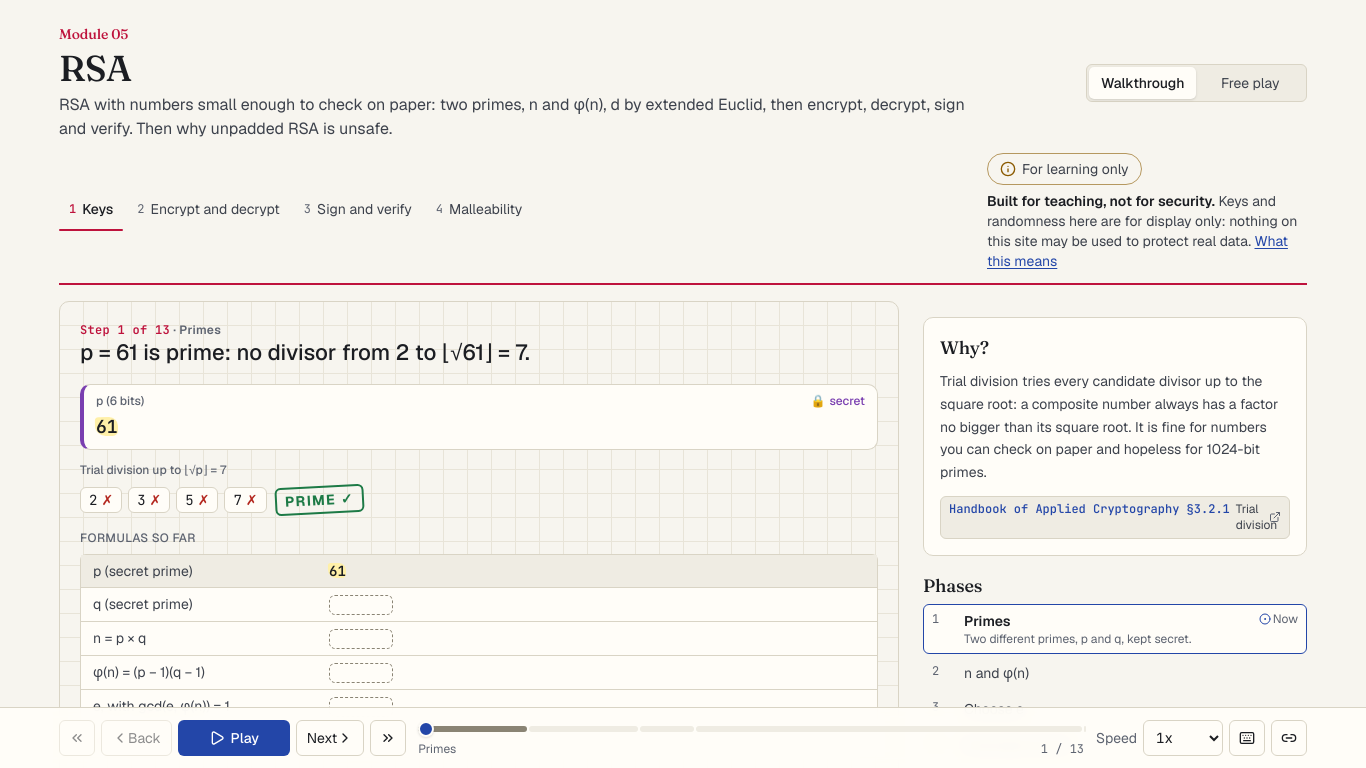
RsaModule › sends the hash to the private key and back, and verification lights green
Click the button "3 Sign and verify" at (358, 209), box [294,193,422,225]
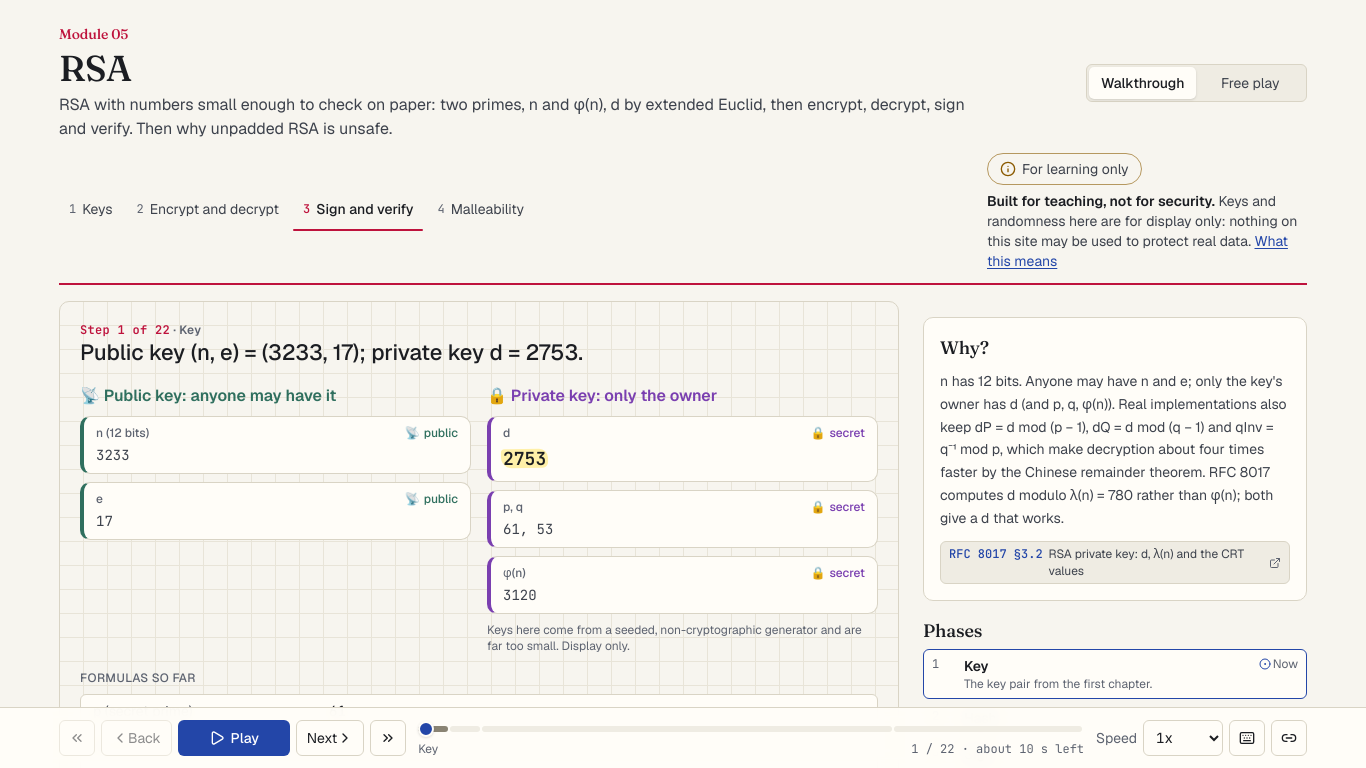
Press ArrowRight
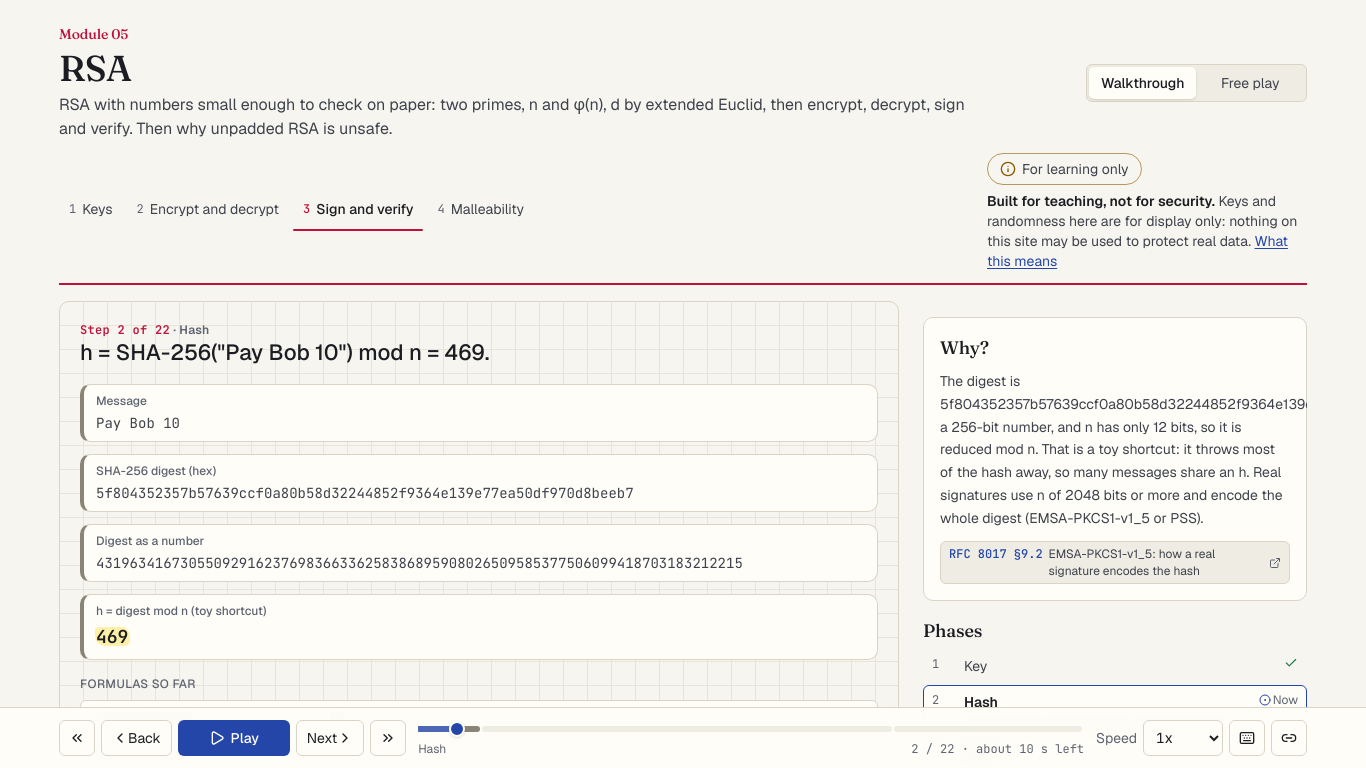
Press ArrowRight
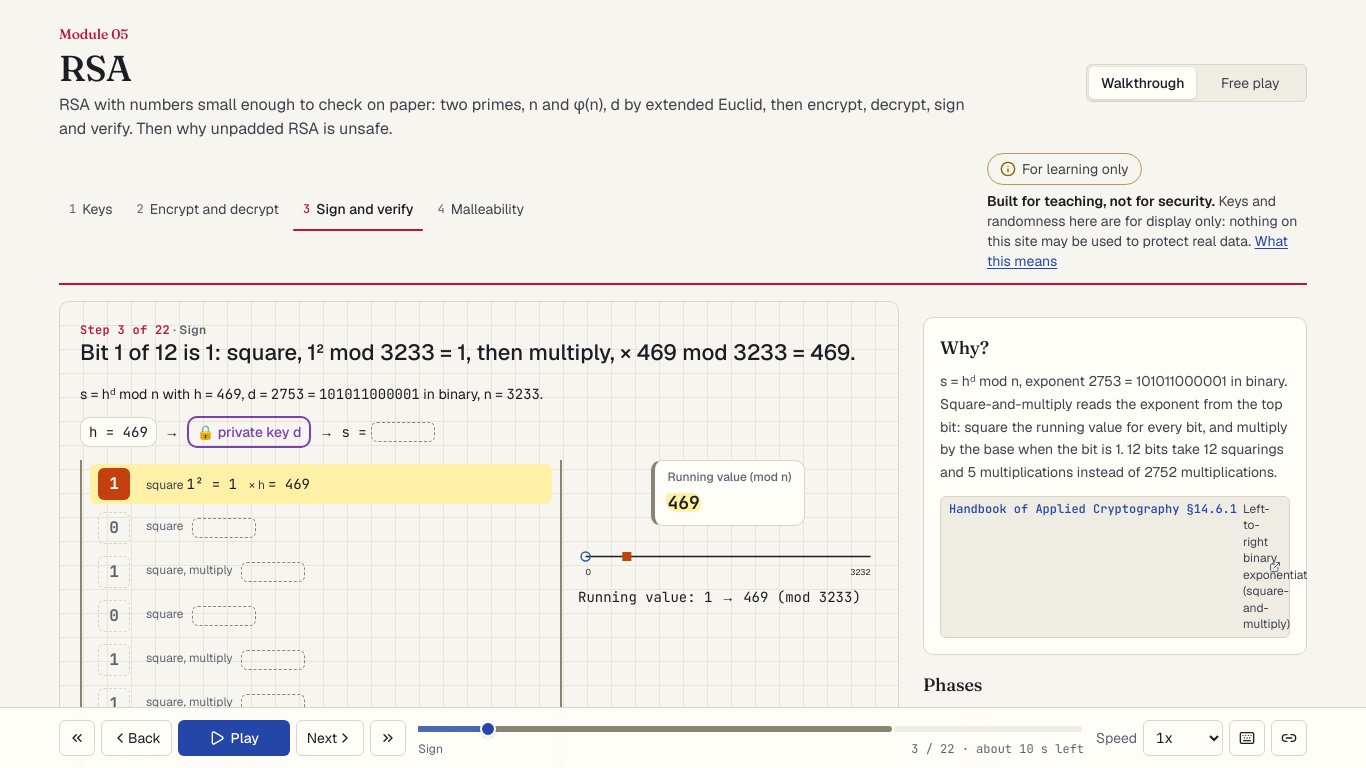
Now the element with test id "rsa-trip-sign" shows "private key d", box [218,423,302,441]
Press End
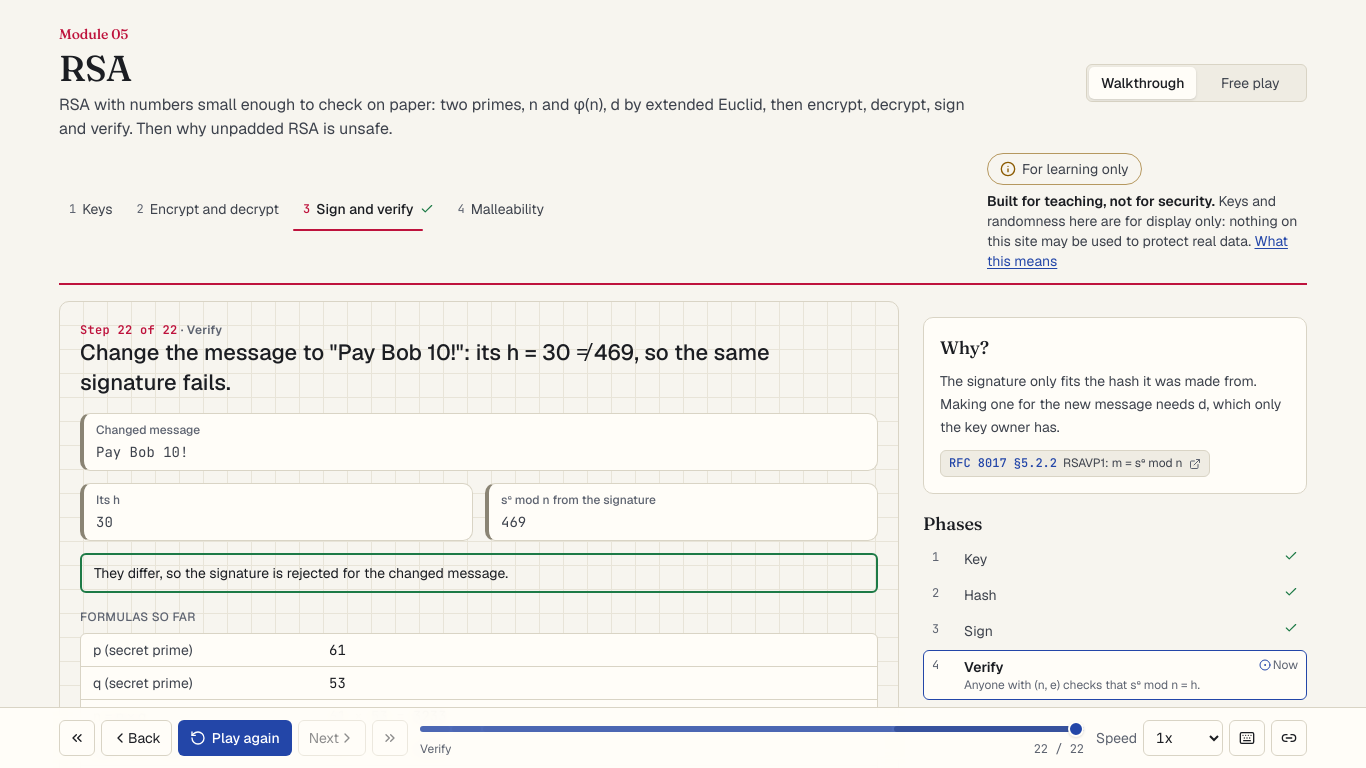
Press ArrowLeft
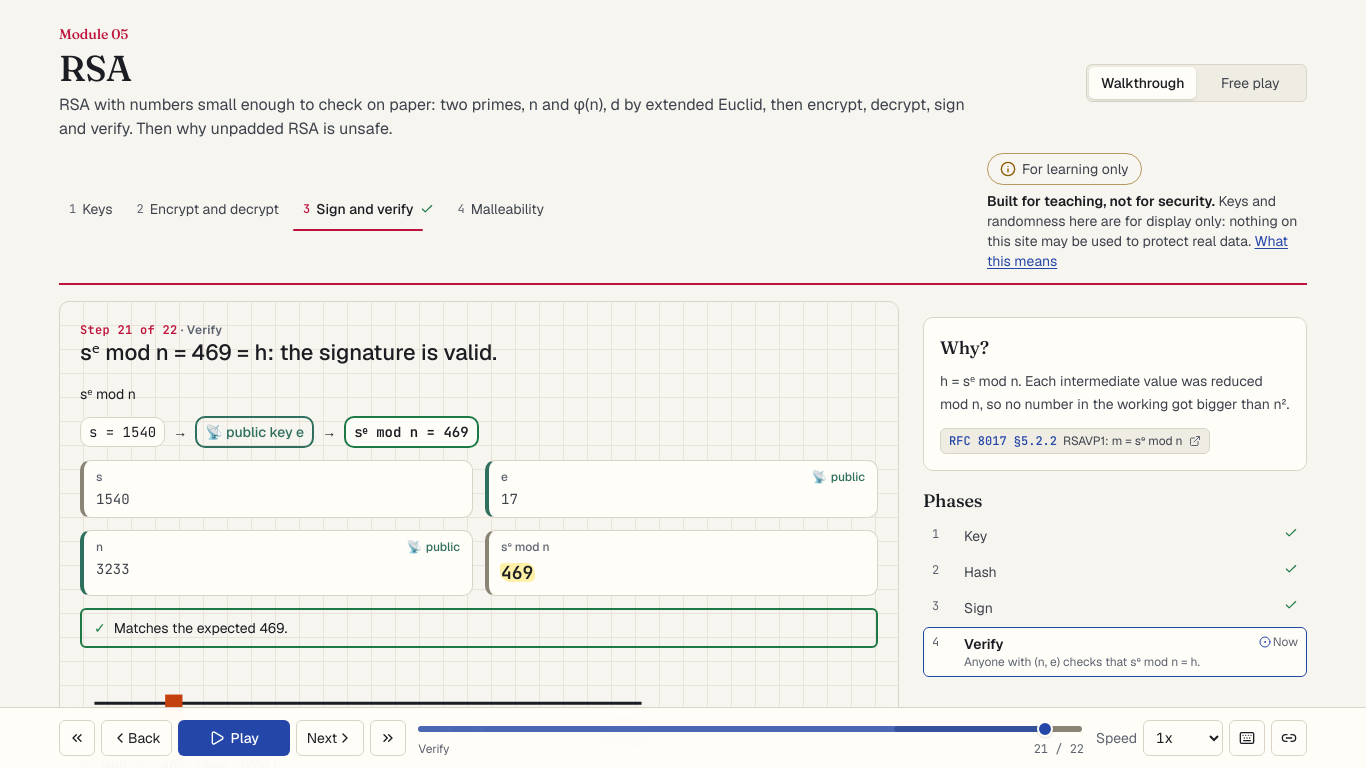
Now the element with test id "rsa-trip-verify" shows "public key e", box [226,423,304,441]
